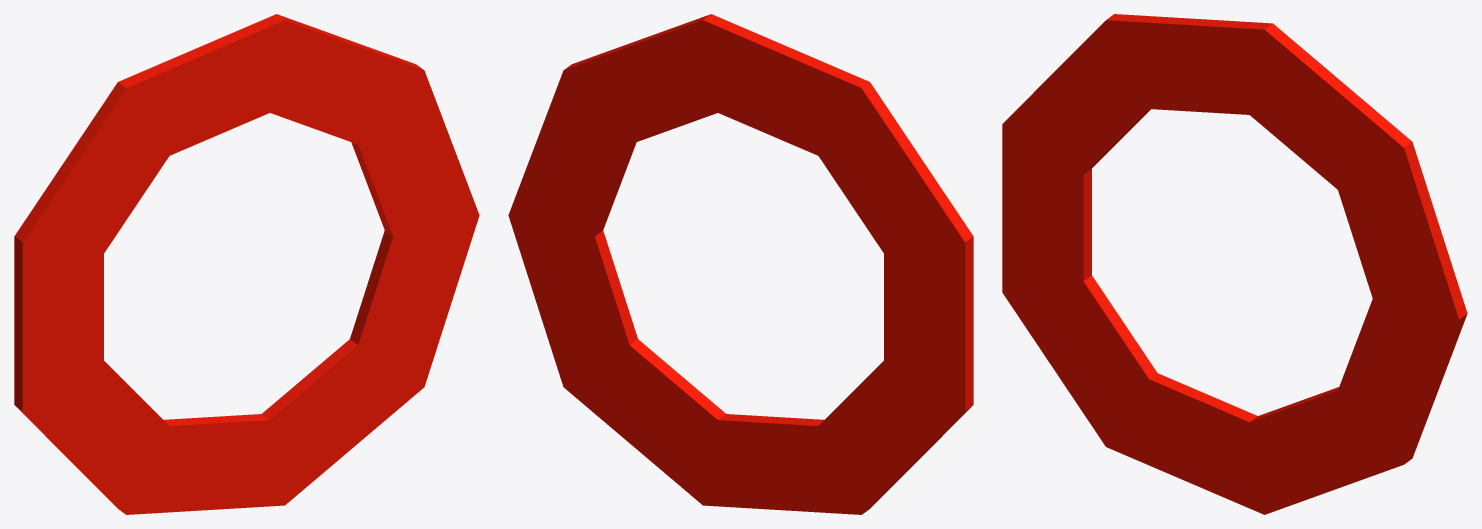
The model's file is ClickMarker.fbx.
3 views of the same model, side by side, from view 1: azimuth 30°, elevation 25°; view 2: azimuth 150°, elevation 25°; view 3: azimuth 330°, elevation 25° (orthographic).
Parts seen in each view (by area): view 1: Torus; view 2: Torus; view 3: Torus.
Boxes of the visible parts, <box> form: Torus: <box>14,14,479,514</box>; Torus: <box>508,14,973,514</box>; Torus: <box>1002,14,1467,514</box>.
Size of the model in its own units: 0.7123 by 0.7233 by 0.0227.
